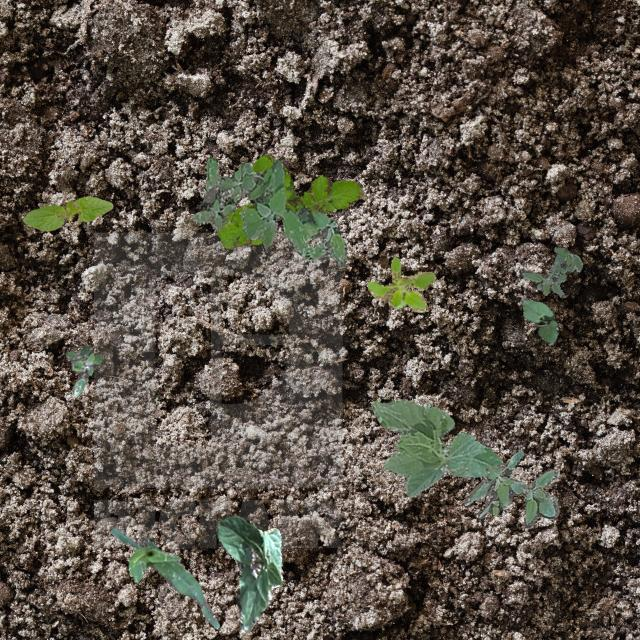crop: (370, 398, 502, 496), (110, 528, 218, 628), (214, 514, 282, 632), (22, 196, 112, 230), (520, 296, 558, 344)
weed: (192, 157, 346, 266), (215, 154, 364, 248), (462, 448, 558, 528), (366, 256, 436, 312), (520, 246, 582, 296), (66, 344, 102, 396)
